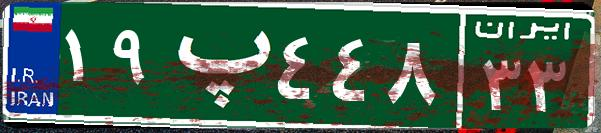1: (57, 26, 110, 107)
3: (475, 38, 525, 113), (525, 38, 570, 115)
4: (273, 28, 330, 110), (330, 28, 385, 110)
8: (385, 28, 445, 110)
9: (110, 28, 158, 105)
پ: (158, 15, 273, 115)
